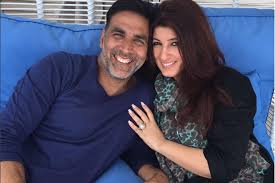Bad: (1, 1, 275, 183)
